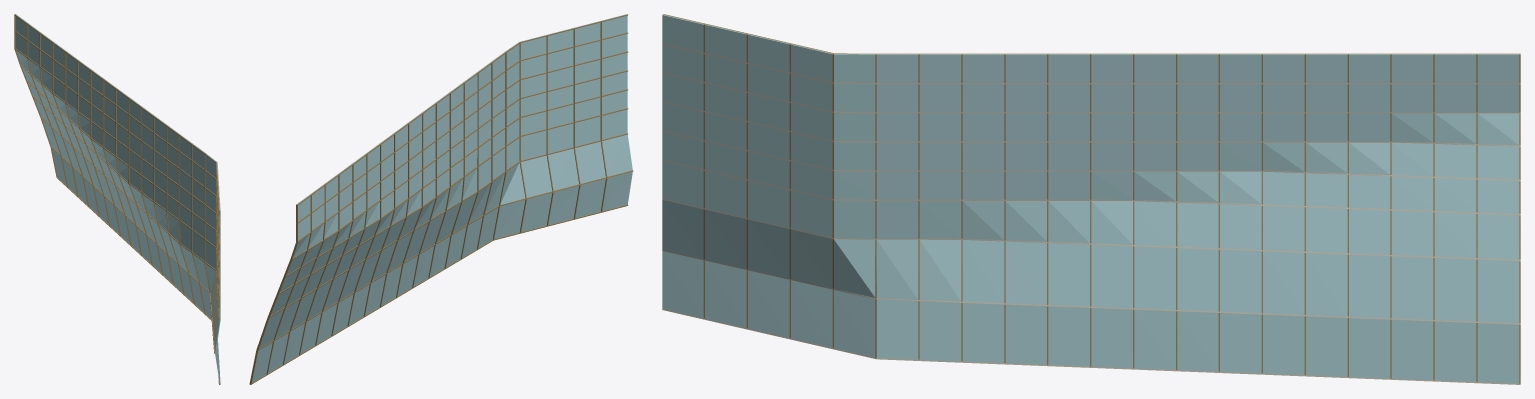
File: G7_Completion_R005B_Body_1_07.glb
3 renders of one model, left to right at view 1: azimuth 30°, elevation 25°; view 2: azimuth 150°, elevation 25°; view 3: azimuth 270°, elevation 25°, orthographic. The views are drawn at different scales.
Parts seen in each view (by area): view 1: Body_1_07_G7C3_glass_solid_skin, Body_1_07_G7C3_metal_solid_frame; view 2: Body_1_07_G7C3_glass_solid_skin, Body_1_07_G7C3_metal_solid_frame; view 3: Body_1_07_G7C3_glass_solid_skin, Body_1_07_G7C3_shell_solid_skin, Body_1_07_G7C3_metal_solid_skin, Body_1_07_G7C3_metal_solid_frame.
Boxes of the visible parts, x1,y1,x2,y2 form: Body_1_07_G7C3_glass_solid_skin: (15, 14, 220, 384); Body_1_07_G7C3_metal_solid_frame: (14, 14, 219, 384); Body_1_07_G7C3_glass_solid_skin: (252, 14, 632, 382); Body_1_07_G7C3_metal_solid_frame: (250, 14, 633, 384); Body_1_07_G7C3_glass_solid_skin: (662, 14, 1519, 383); Body_1_07_G7C3_shell_solid_skin: (662, 43, 1520, 384); Body_1_07_G7C3_metal_solid_skin: (703, 24, 1520, 383); Body_1_07_G7C3_metal_solid_frame: (663, 14, 1520, 54).
Size of the model in its own units: 26.47 by 45.5 by 120.
3 materials, 2 textured.
